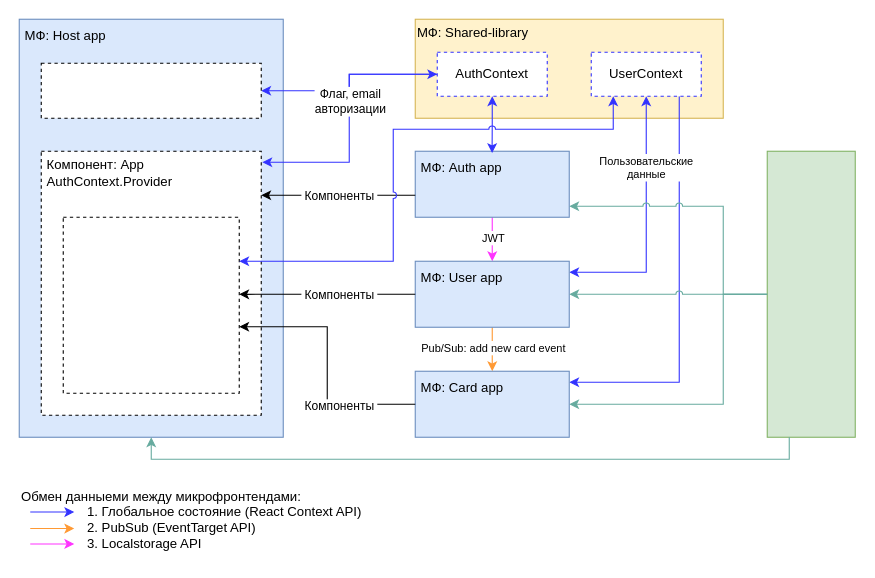
Some shapes in this 875 by 578 pixel diagram are drawn without their labels. The shapes that lost their labels are listed below. From the top down, each one's box as (x1, y1, x2, y2) in pixels, then its label:
(40, 62, 261, 118): Компонент: Header
(62, 216, 239, 393): BrowserRouter UserContext.Provider
(766, 150, 855, 437): МФ: UI-kit
